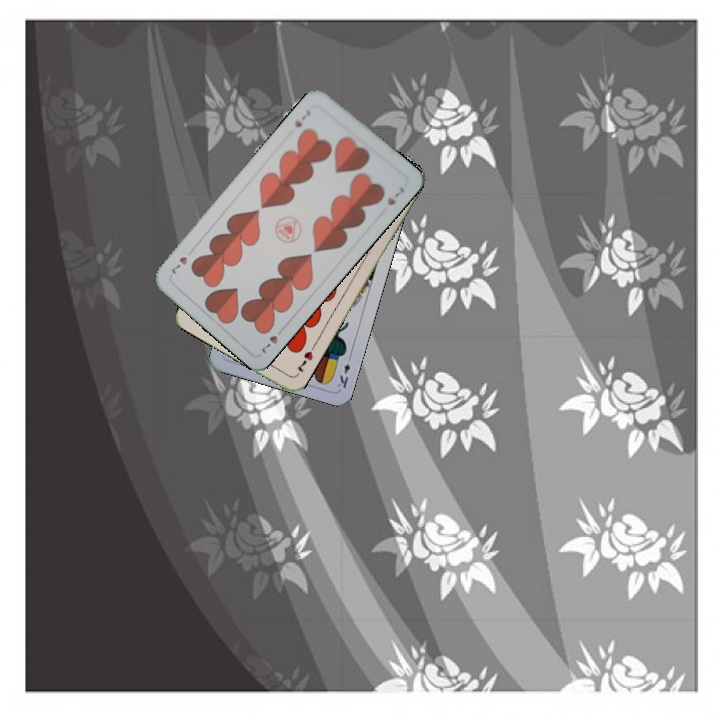EK: (333, 351, 354, 391)
H7: (293, 347, 316, 374), (290, 106, 313, 130), (258, 331, 280, 356)
